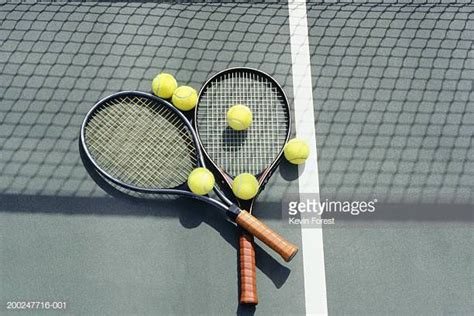tennis_ball: (187, 167, 215, 195), (232, 172, 259, 200), (226, 104, 253, 130), (283, 138, 310, 164), (172, 85, 198, 111), (152, 73, 177, 99)
